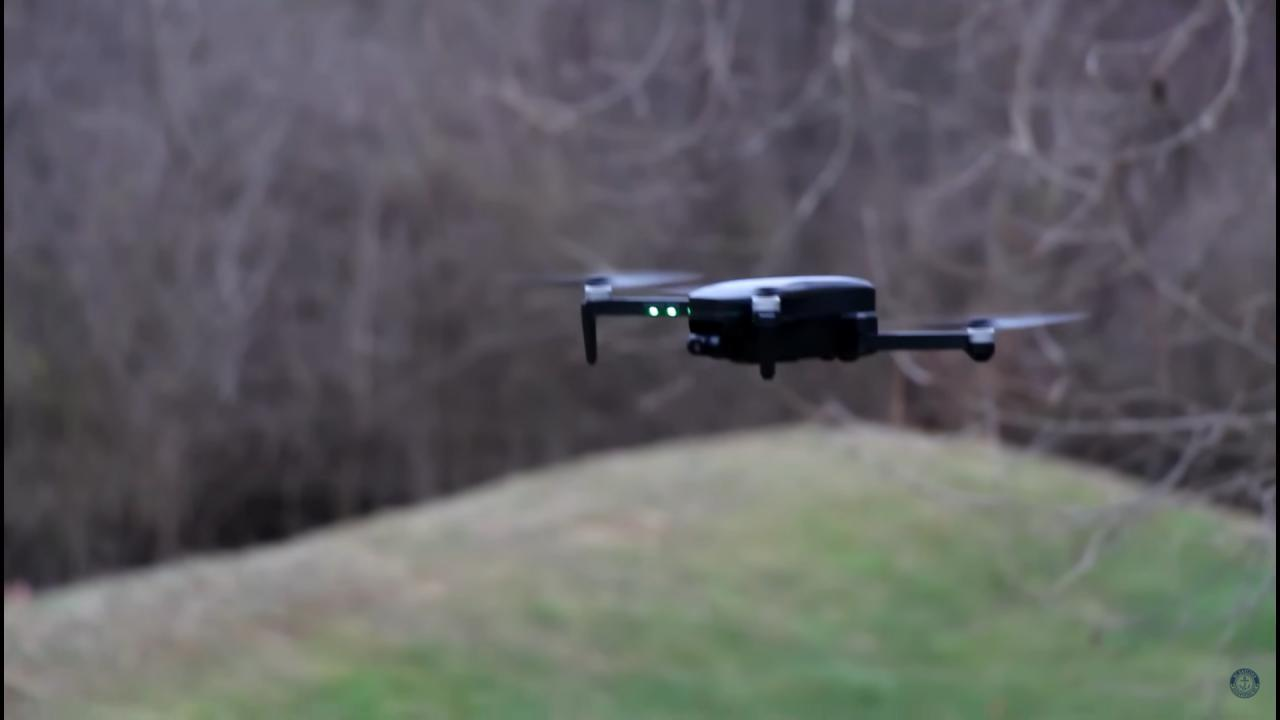Drone: (472, 237, 1111, 415)
